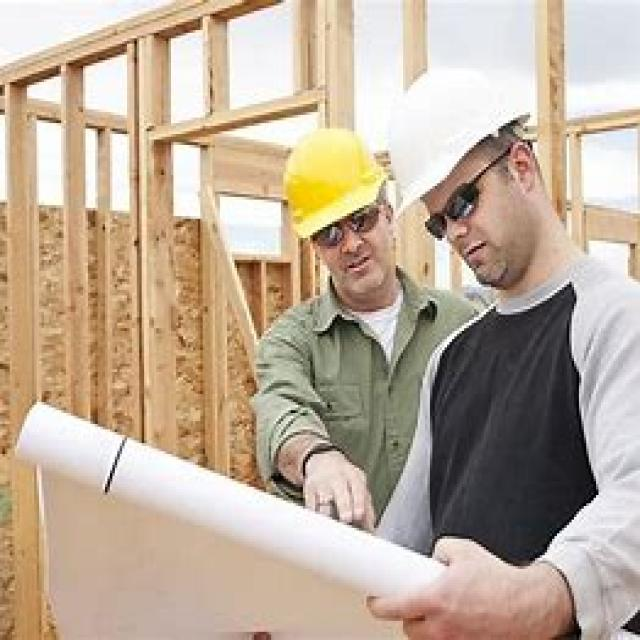without_helmet: (420, 118, 588, 300), (309, 184, 403, 300)
